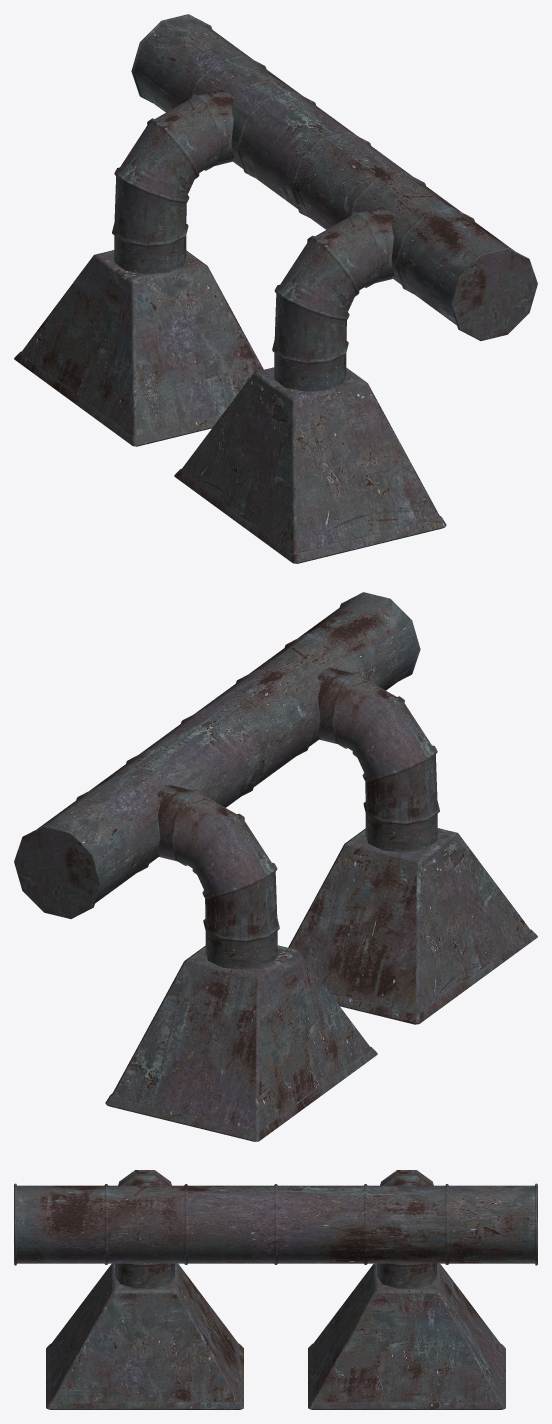
File: SM_KitchenVentilator.FBX
3 views of the same model, one above another, from view 1: azimuth 30°, elevation 25°; view 2: azimuth 150°, elevation 25°; view 3: azimuth 270°, elevation 25° (orthographic). The views are drawn at different scales.
Visible parts, largest first — view 1: SM_KitchenVentilator_LOD0; view 2: SM_KitchenVentilator_LOD0; view 3: SM_KitchenVentilator_LOD0.
Part boxes in pixels (left/top/right/bottom): SM_KitchenVentilator_LOD0: left=14, top=14, right=537, bottom=563; SM_KitchenVentilator_LOD0: left=14, top=592, right=537, bottom=1141; SM_KitchenVentilator_LOD0: left=14, top=1170, right=537, bottom=1409.
Size of what is drawn, in the model's own units: 81.12 by 98.02 by 200.
